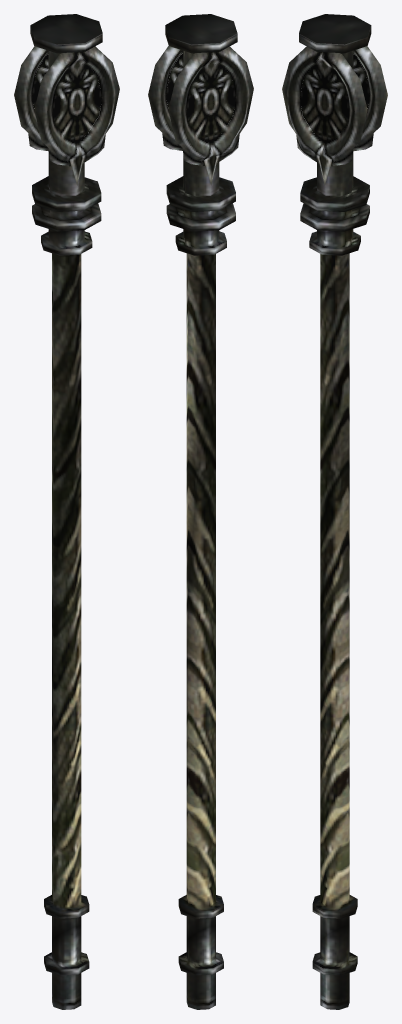
The model's file is jiaolong_grip_default.FBX.
3 renders of one model, left to right at view 1: azimuth 30°, elevation 25°; view 2: azimuth 210°, elevation 25°; view 3: azimuth 330°, elevation 25°, orthographic.
Visible parts, largest first — view 1: jiaolong_grip_default; view 2: jiaolong_grip_default; view 3: jiaolong_grip_default.
Boxes of the visible parts, x1,y1,x2,y2 form: jiaolong_grip_default: (14, 14, 119, 1009); jiaolong_grip_default: (148, 14, 253, 1009); jiaolong_grip_default: (282, 14, 387, 1009).
Size of the model in its own units: 13.03 by 142 by 9.87.
1 material, 1 textured.
